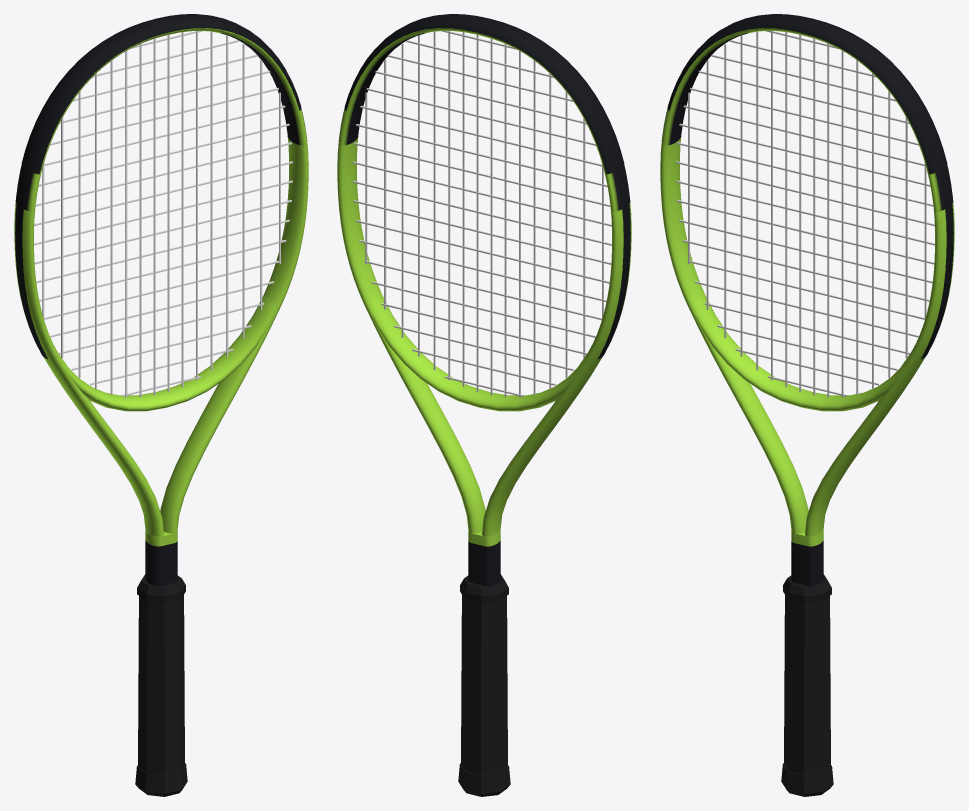
File: head-extreme-elite-2026.glb
3 renders of one model, left to right at view 1: azimuth 30°, elevation 25°; view 2: azimuth 150°, elevation 25°; view 3: azimuth 330°, elevation 25°, orthographic.
Parts seen in each view (by area): view 1: frame, strings_mains, strings_crosses, grip, bumper, grommets, butt_cap, collar; view 2: frame, strings_mains, strings_crosses, grip, bumper, grommets, butt_cap, collar; view 3: frame, strings_mains, strings_crosses, grip, bumper, grommets, butt_cap, collar.
Boxes of the visible parts, x1=… form: frame: x1=14, y1=28, x2=308, y2=586; strings_mains: x1=42, y1=31, x2=280, y2=397; strings_crosses: x1=34, y1=31, x2=292, y2=396; grip: x1=138, y1=595, x2=184, y2=774; bumper: x1=21, y1=14, x2=301, y2=174; grommets: x1=15, y1=166, x2=47, y2=359; butt_cap: x1=135, y1=763, x2=187, y2=796; collar: x1=137, y1=574, x2=185, y2=603; frame: x1=337, y1=28, x2=631, y2=586; strings_mains: x1=365, y1=31, x2=603, y2=397; strings_crosses: x1=352, y1=31, x2=611, y2=396; grip: x1=461, y1=595, x2=507, y2=774; bumper: x1=344, y1=14, x2=624, y2=174; grommets: x1=598, y1=166, x2=630, y2=359; butt_cap: x1=458, y1=763, x2=510, y2=796; collar: x1=460, y1=574, x2=508, y2=603; frame: x1=660, y1=28, x2=954, y2=586; strings_mains: x1=688, y1=31, x2=926, y2=397; strings_crosses: x1=676, y1=31, x2=934, y2=396; grip: x1=784, y1=595, x2=830, y2=774; bumper: x1=667, y1=14, x2=947, y2=174; grommets: x1=921, y1=166, x2=953, y2=359; butt_cap: x1=781, y1=763, x2=833, y2=796; collar: x1=783, y1=574, x2=831, y2=603.
Size of the model in its own units: 0.2687 by 0.6861 by 0.0396.
